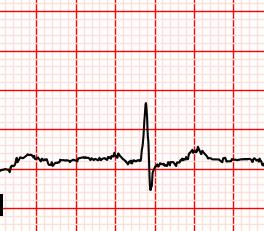ST Depression: (132, 154, 164, 194)
